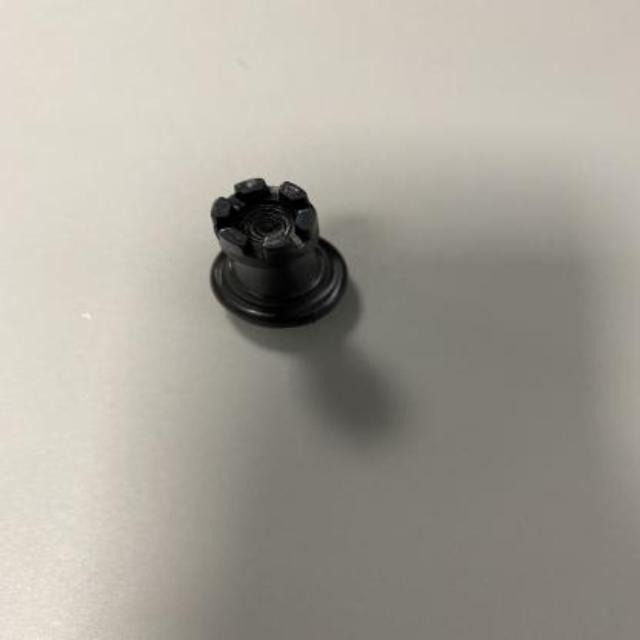black-rook: (208, 177, 348, 327)
